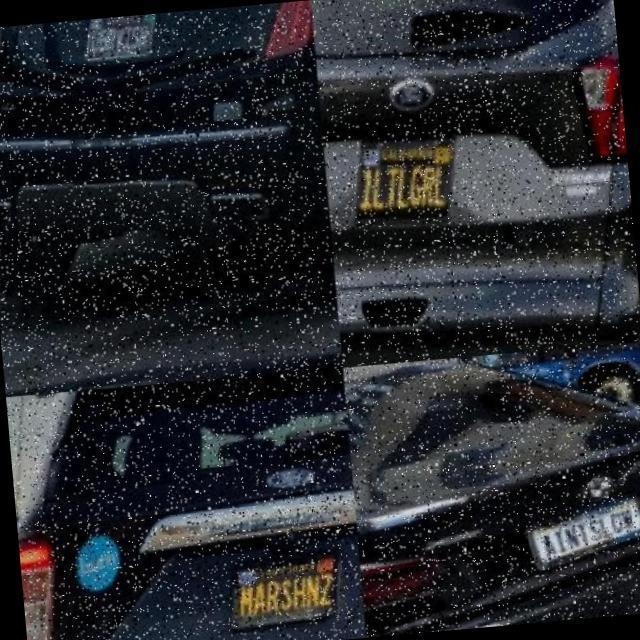License Plate: (352, 118, 476, 242), (234, 553, 347, 639), (527, 502, 640, 580), (93, 15, 163, 67)
